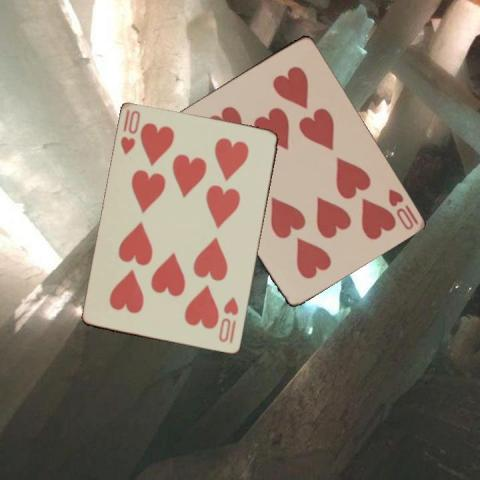10h: (385, 186, 419, 231), (216, 294, 240, 345), (118, 107, 142, 156)
